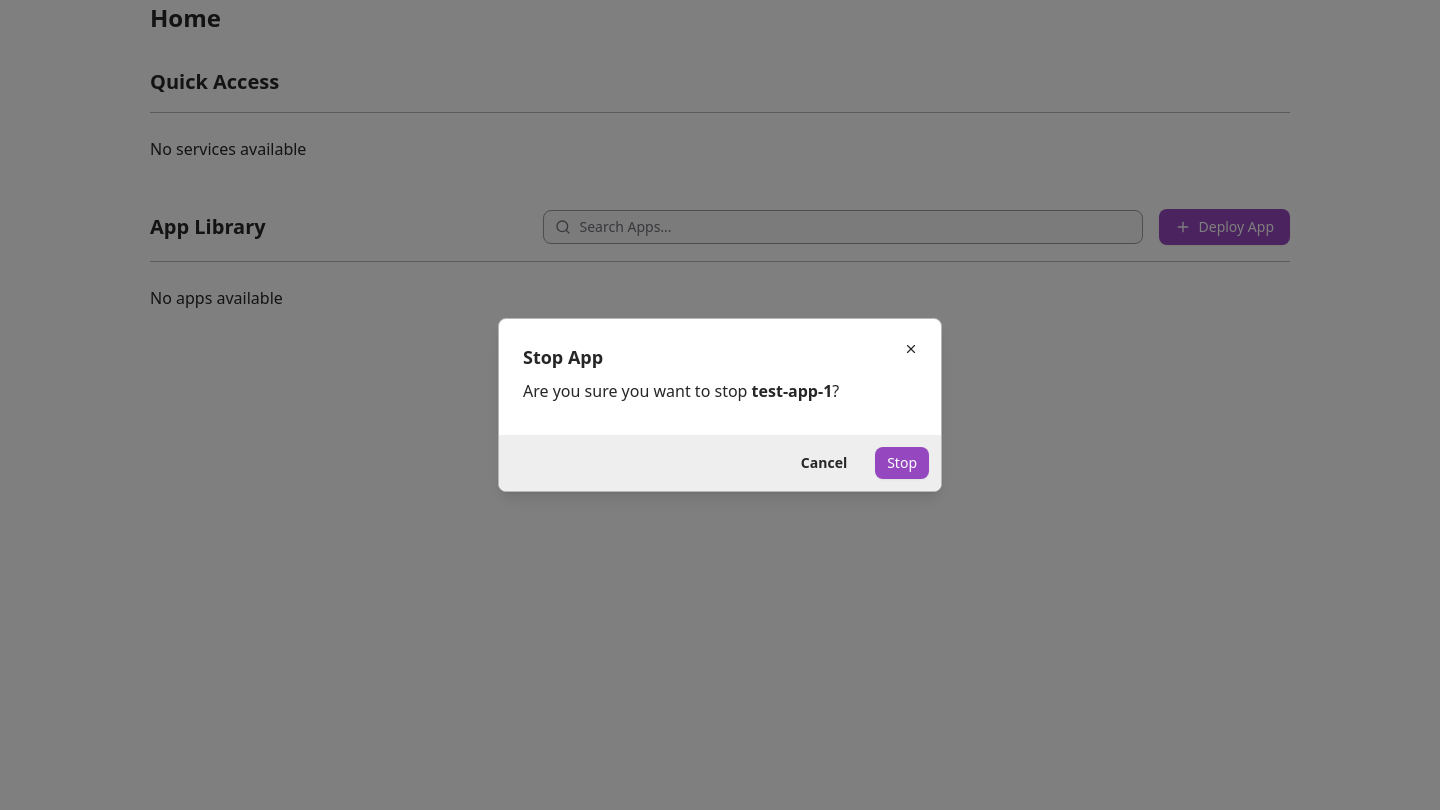
Test: Home › should render with stop modal and submit with success snackbar
Check: the dialog with test id "StopModal" is shown, box [498,318,942,492]
Click the button with id "stop-btn" at (902, 463), box [875,447,929,479]
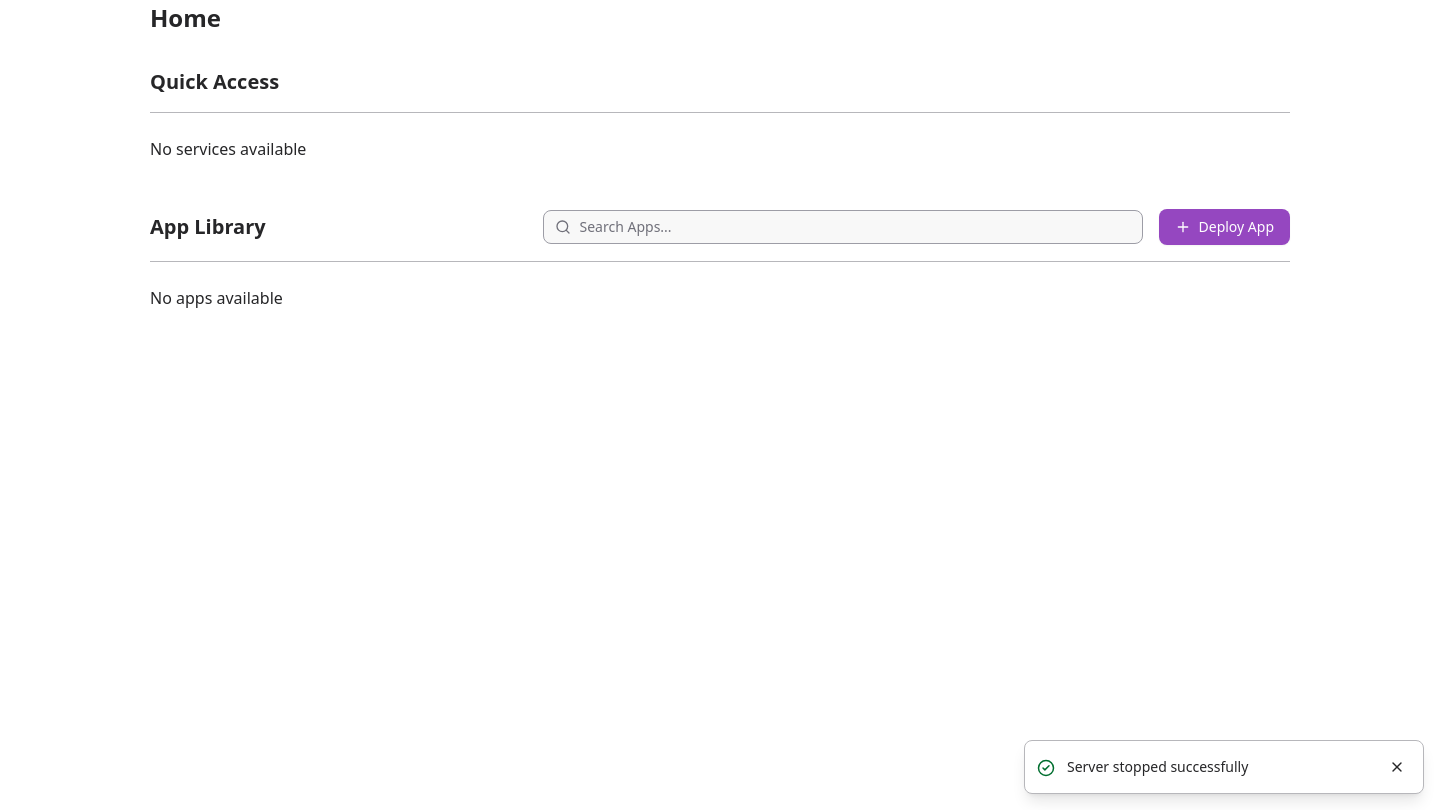
Check: the heading "Server stopped successfully" is shown, box [1067,757,1248,776]
